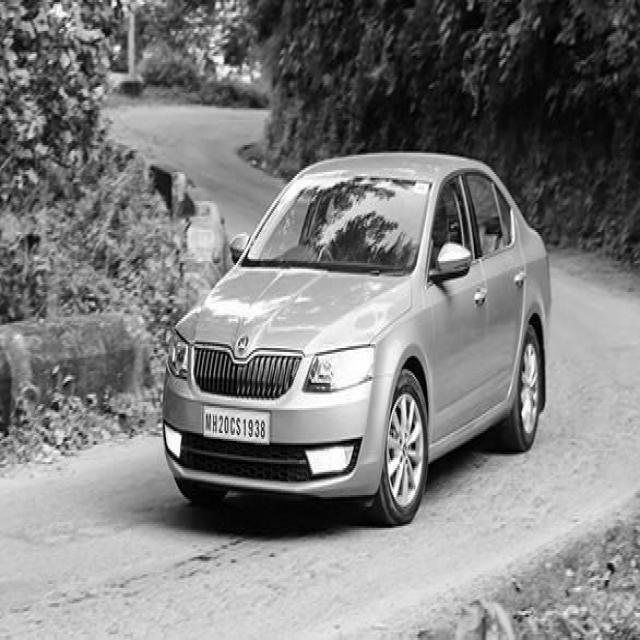car: (160, 133, 558, 526)
license-plate: (202, 406, 271, 454)
